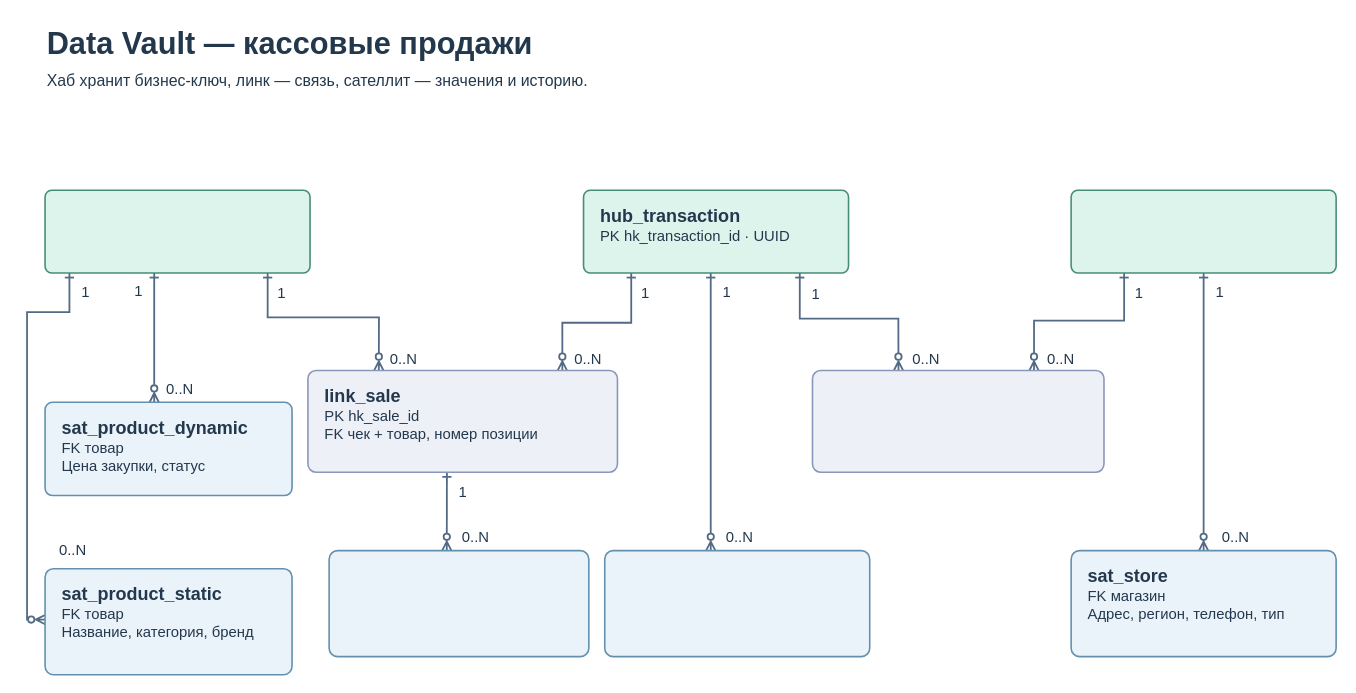
This 1356x693 diagram has some shape labels left out. The shapes that lost their labels are listed below. From the top down, each one's centre as x and y in pixels, then its label:
At point 177,231: "hub_product PK hk_product_id · SKU".
At point 1203,231: "hub_store PK hk_store_id · код магазина".
At point 957,421: "link_transaction_store PK hk_txn_store_id FK чек + магазин".
At point 458,603: "sat_sale FK позиция чека Сумма и количество".
At point 736,603: "sat_transaction FK чек Дата-время, сумма, оплата".
